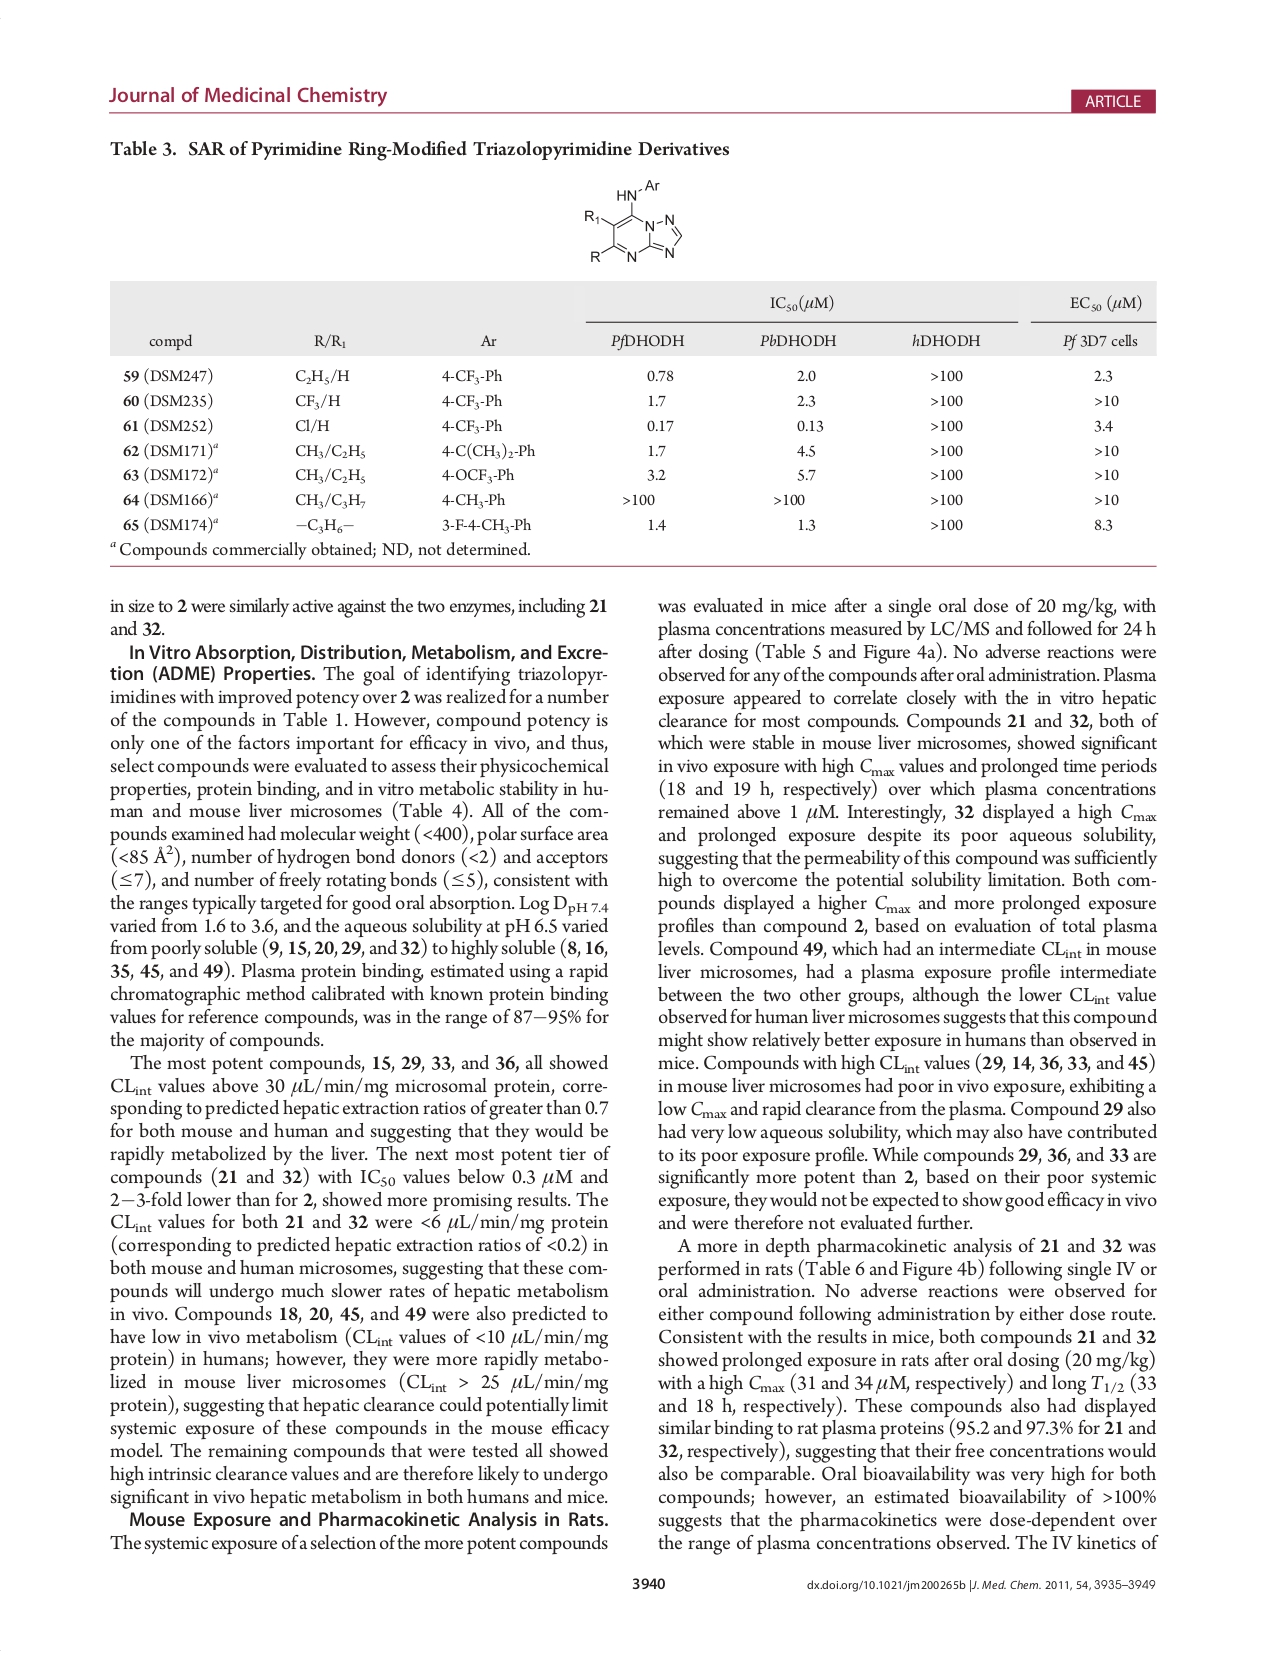exist_molecular: (574, 174, 689, 273)
